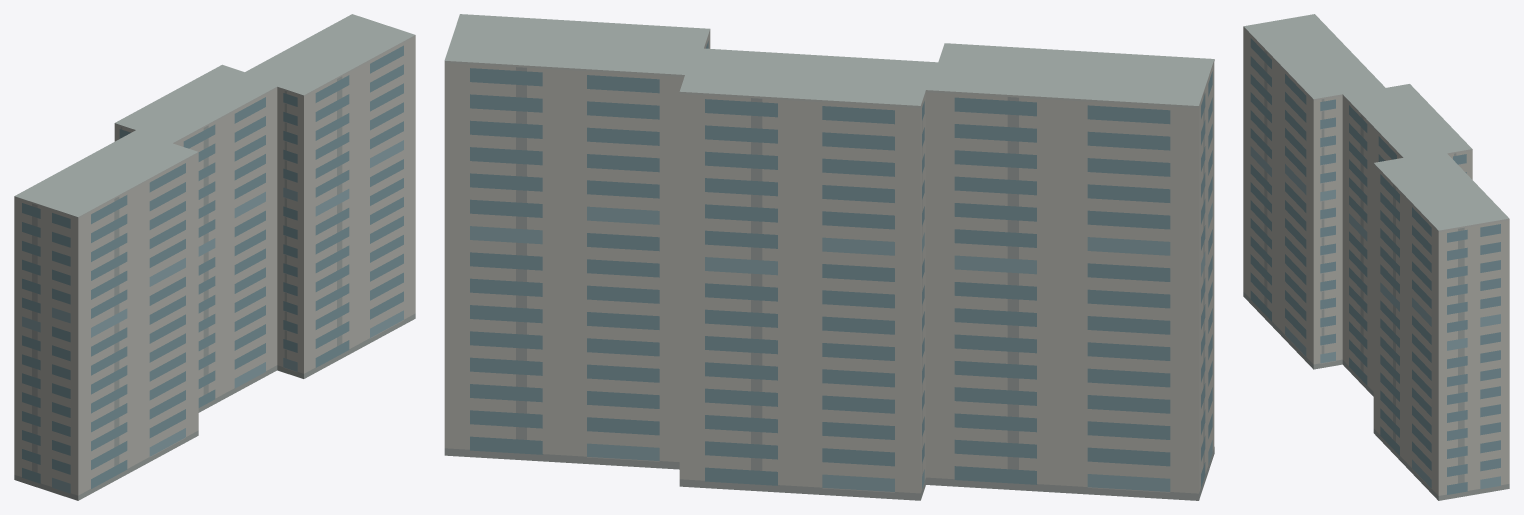
Rendered from residential-4bbb61a1-8640-4f01-80e6-f61a38c7d1dc.glb.
3 renders of one model, left to right at view 1: azimuth 30°, elevation 25°; view 2: azimuth 150°, elevation 25°; view 3: azimuth 270°, elevation 25°, orthographic. The views are drawn at different scales.
Parts seen in each view (by area): view 1: residential-4bbb61a1-8640-4f01-80e6-f61a38c7d1dc.tmp; view 2: residential-4bbb61a1-8640-4f01-80e6-f61a38c7d1dc.tmp; view 3: residential-4bbb61a1-8640-4f01-80e6-f61a38c7d1dc.tmp.
Part boxes in pixels (box(x1,y1,x2,y2)): residential-4bbb61a1-8640-4f01-80e6-f61a38c7d1dc.tmp: box(14, 14, 415, 500); residential-4bbb61a1-8640-4f01-80e6-f61a38c7d1dc.tmp: box(444, 14, 1214, 500); residential-4bbb61a1-8640-4f01-80e6-f61a38c7d1dc.tmp: box(1243, 14, 1509, 500).
Size of the model in its own units: 78.66 by 45.75 by 40.82.
